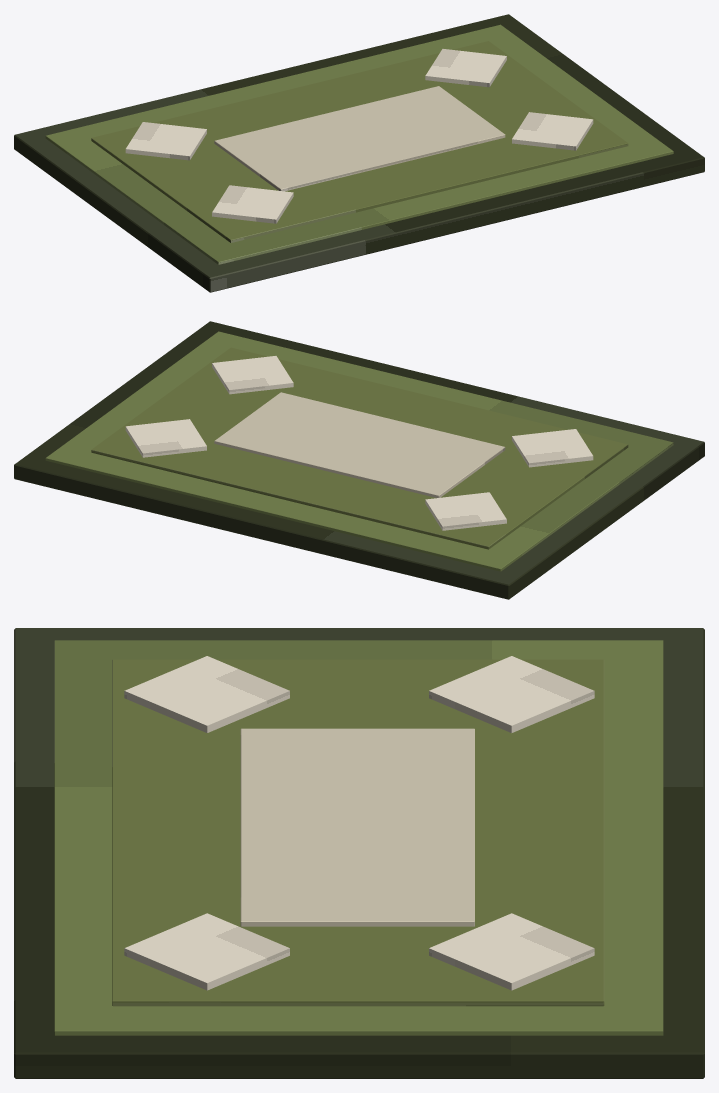
File: bedroom_rug_olive.glb
The picture shows the model from 3 angles, top to bottom: view 1: azimuth 30°, elevation 25°; view 2: azimuth 150°, elevation 25°; view 3: azimuth 270°, elevation 25°; orthographic projection. The views are drawn at different scales.
Visible parts, largest first — view 1: RugField, RugBase, RugBorderOuter, RugCenter, RugDiamond_0.52_-0.26, RugDiamond_-0.52_-0.26, RugDiamond_0.52_0.26, RugDiamond_-0.52_0.26; view 2: RugField, RugBase, RugBorderOuter, RugCenter, RugDiamond_0.52_0.26, RugDiamond_-0.52_0.26, RugDiamond_0.52_-0.26, RugDiamond_-0.52_-0.26; view 3: RugField, RugBase, RugBorderOuter, RugCenter, RugDiamond_0.52_0.26, RugDiamond_0.52_-0.26, RugDiamond_-0.52_0.26, RugDiamond_-0.52_-0.26.
Part boxes in pixels (bbox=[...]): RugField: bbox=[91, 41, 628, 242]; RugBase: bbox=[14, 14, 704, 292]; RugBorderOuter: bbox=[45, 24, 673, 264]; RugCenter: bbox=[214, 86, 505, 191]; RugDiamond_0.52_-0.26: bbox=[512, 112, 593, 150]; RugDiamond_-0.52_-0.26: bbox=[212, 185, 293, 223]; RugDiamond_0.52_0.26: bbox=[425, 49, 506, 87]; RugDiamond_-0.52_0.26: bbox=[125, 122, 206, 160]; RugField: bbox=[91, 347, 628, 549]; RugBase: bbox=[14, 321, 704, 599]; RugBorderOuter: bbox=[45, 331, 673, 571]; RugCenter: bbox=[214, 392, 505, 497]; RugDiamond_0.52_0.26: bbox=[125, 419, 206, 457]; RugDiamond_-0.52_0.26: bbox=[425, 492, 506, 530]; RugDiamond_0.52_-0.26: bbox=[212, 356, 293, 394]; RugDiamond_-0.52_-0.26: bbox=[512, 429, 593, 467]; RugField: bbox=[112, 659, 604, 1006]; RugBase: bbox=[14, 628, 704, 1078]; RugBorderOuter: bbox=[54, 640, 663, 1035]; RugCenter: bbox=[240, 728, 474, 926]; RugDiamond_0.52_0.26: bbox=[429, 913, 594, 990]; RugDiamond_0.52_-0.26: bbox=[124, 913, 289, 990]; RugDiamond_-0.52_0.26: bbox=[429, 656, 594, 732]; RugDiamond_-0.52_-0.26: bbox=[124, 656, 289, 732].
Bounding box in the file's own units: 1.72 × 0.089 × 1.18.
Materials: 1 (1 with a texture image).
